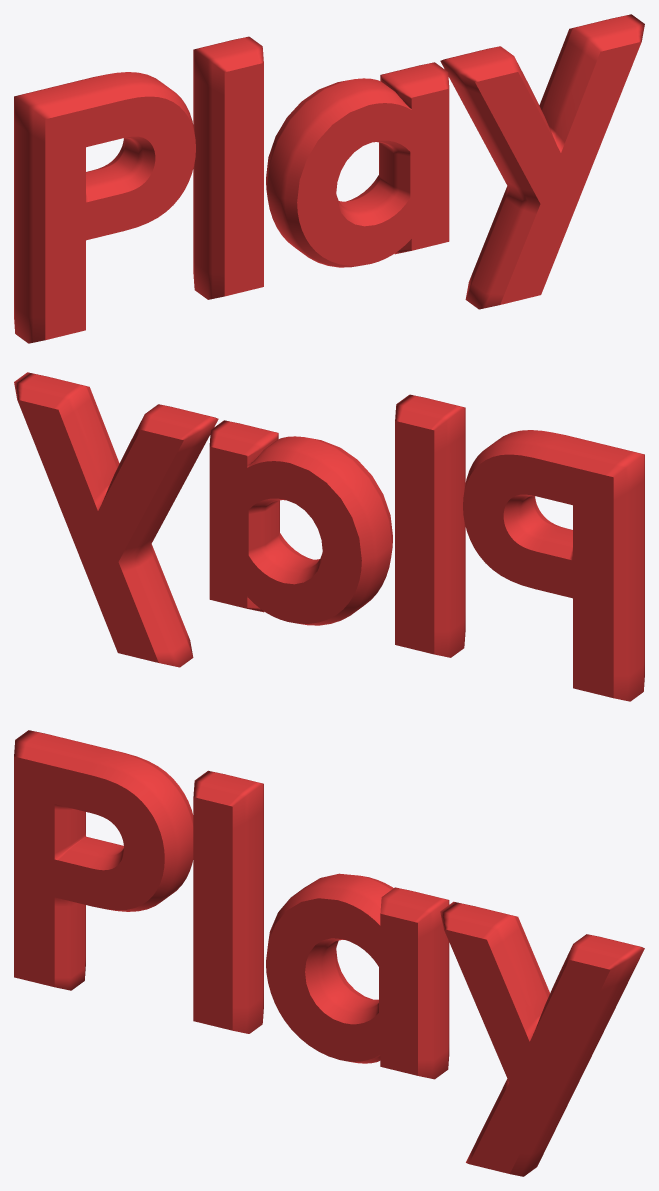
The model's file is play.fbx.
The picture shows the model from 3 angles, top to bottom: view 1: azimuth 30°, elevation 25°; view 2: azimuth 150°, elevation 25°; view 3: azimuth 330°, elevation 25°; orthographic projection.
Visible parts, largest first — view 1: bevelPolygon1, bevelPolygon3, bevelPolygon4, bevelPolygon2; view 2: bevelPolygon1, bevelPolygon3, bevelPolygon4, bevelPolygon2; view 3: bevelPolygon1, bevelPolygon3, bevelPolygon4, bevelPolygon2.
Boxes of the visible parts, box(x1,y1,x2,y2) form: bevelPolygon1: box(14, 72, 195, 343); bevelPolygon3: box(266, 62, 449, 267); bevelPolygon4: box(440, 14, 644, 309); bevelPolygon2: box(193, 36, 263, 299); bevelPolygon1: box(463, 430, 644, 701); bevelPolygon3: box(209, 420, 392, 625); bevelPolygon4: box(14, 372, 218, 667); bevelPolygon2: box(395, 394, 465, 657); bevelPolygon1: box(14, 730, 193, 990); bevelPolygon3: box(266, 873, 449, 1079); bevelPolygon4: box(440, 901, 644, 1176); bevelPolygon2: box(193, 770, 263, 1033).
Size of the model in its own units: 7.96 by 3.9 by 0.7.
